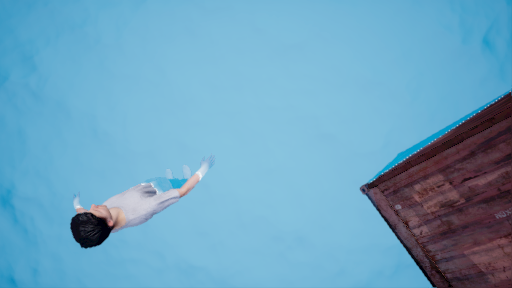person: (59, 155, 216, 244)
